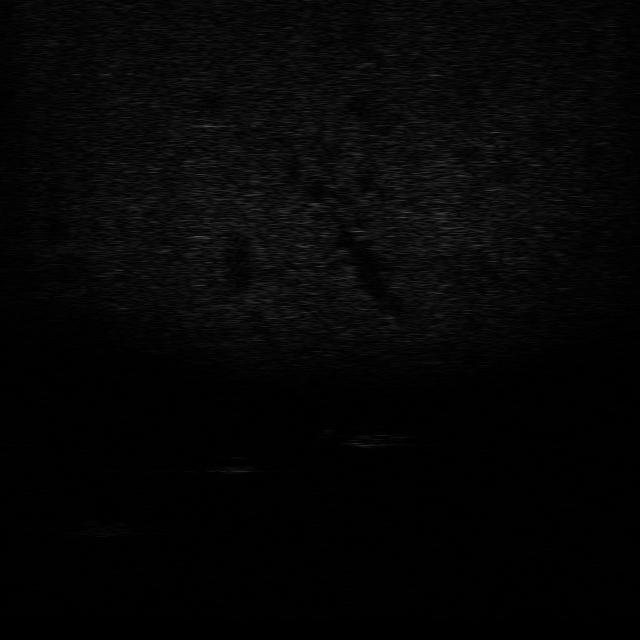ball: (215, 453, 259, 478)
circle cage: (57, 514, 136, 542)
human body: (307, 421, 418, 449)
